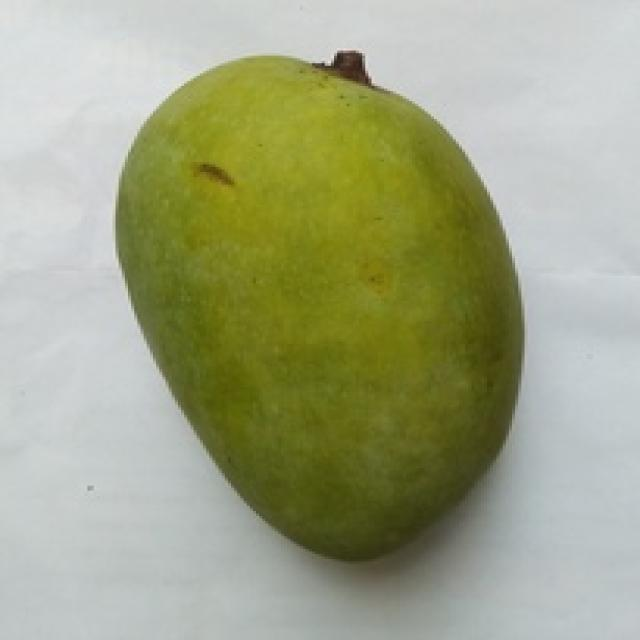Mango: (116, 56, 515, 557)
